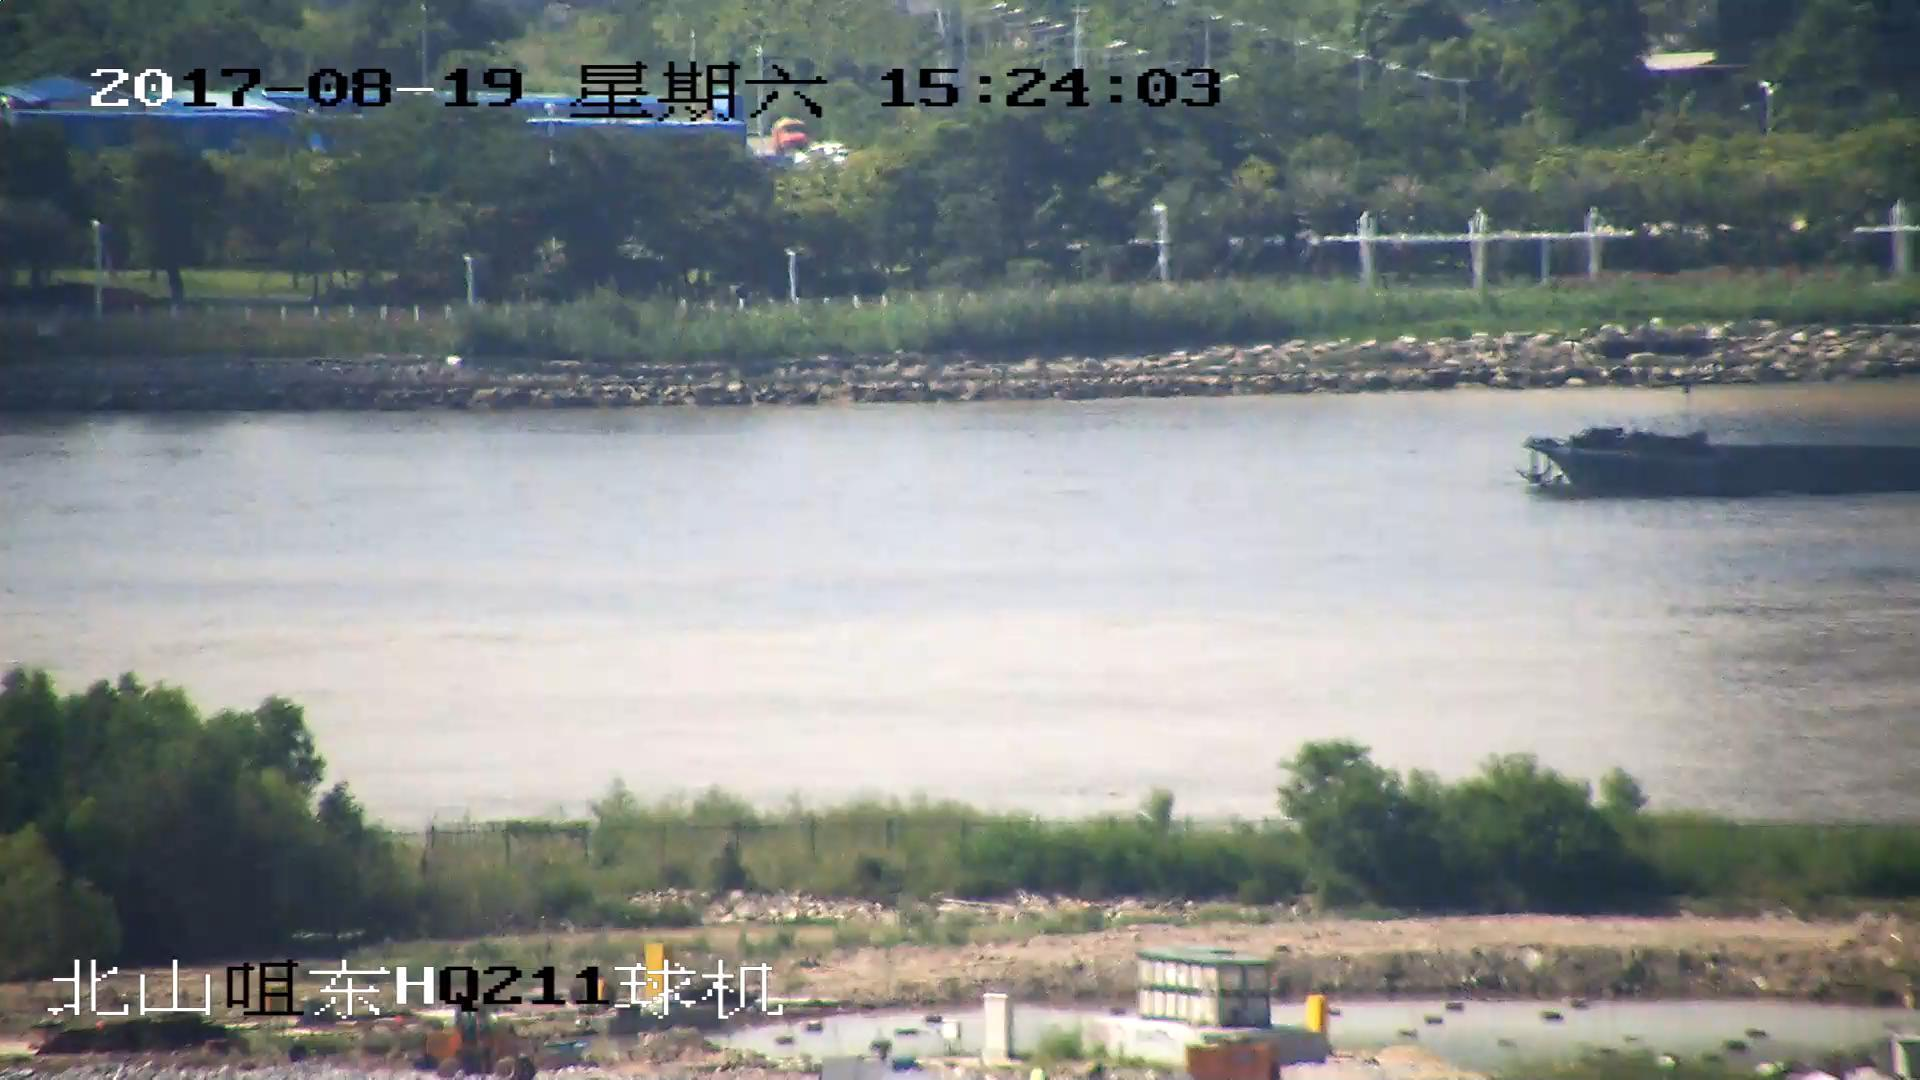Ship: (1516, 415, 1920, 506)
